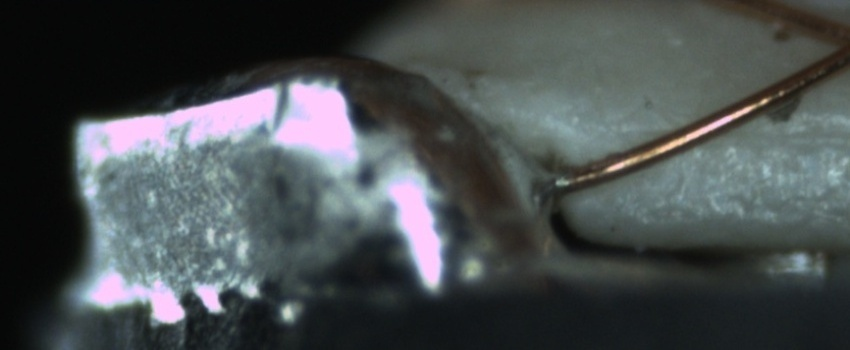CL: (803, 10, 850, 79)
DL: (629, 96, 849, 165)
